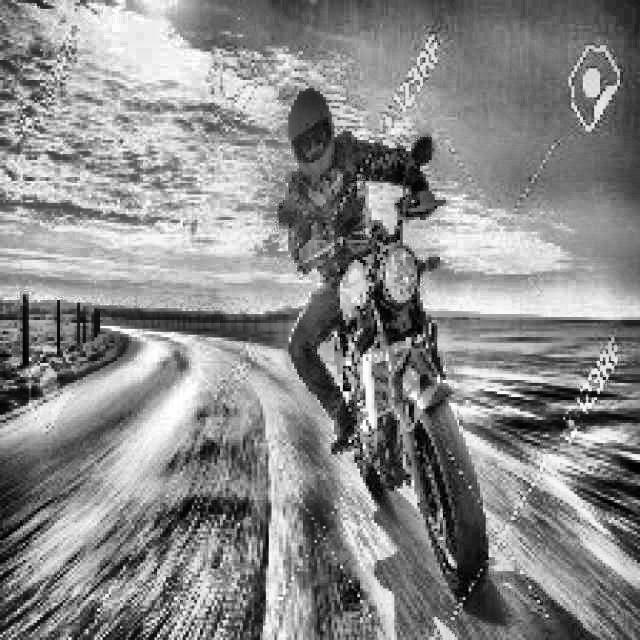motorcycle: (249, 132, 529, 592)
